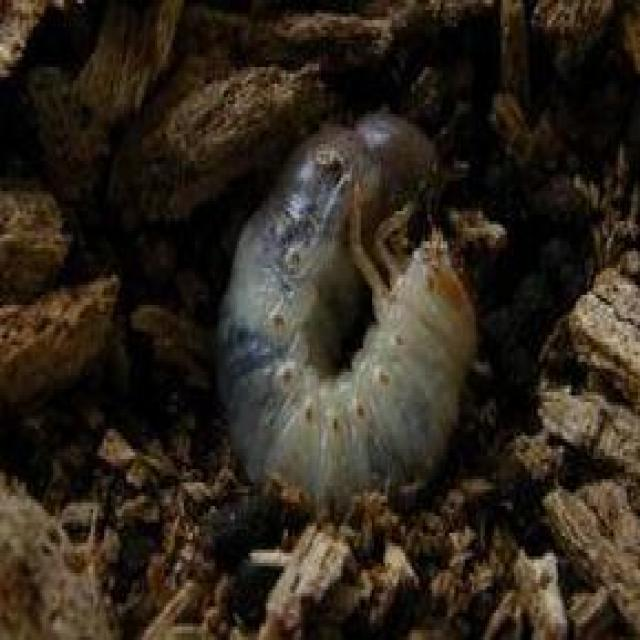Grub-Adult-: (220, 102, 486, 504)
